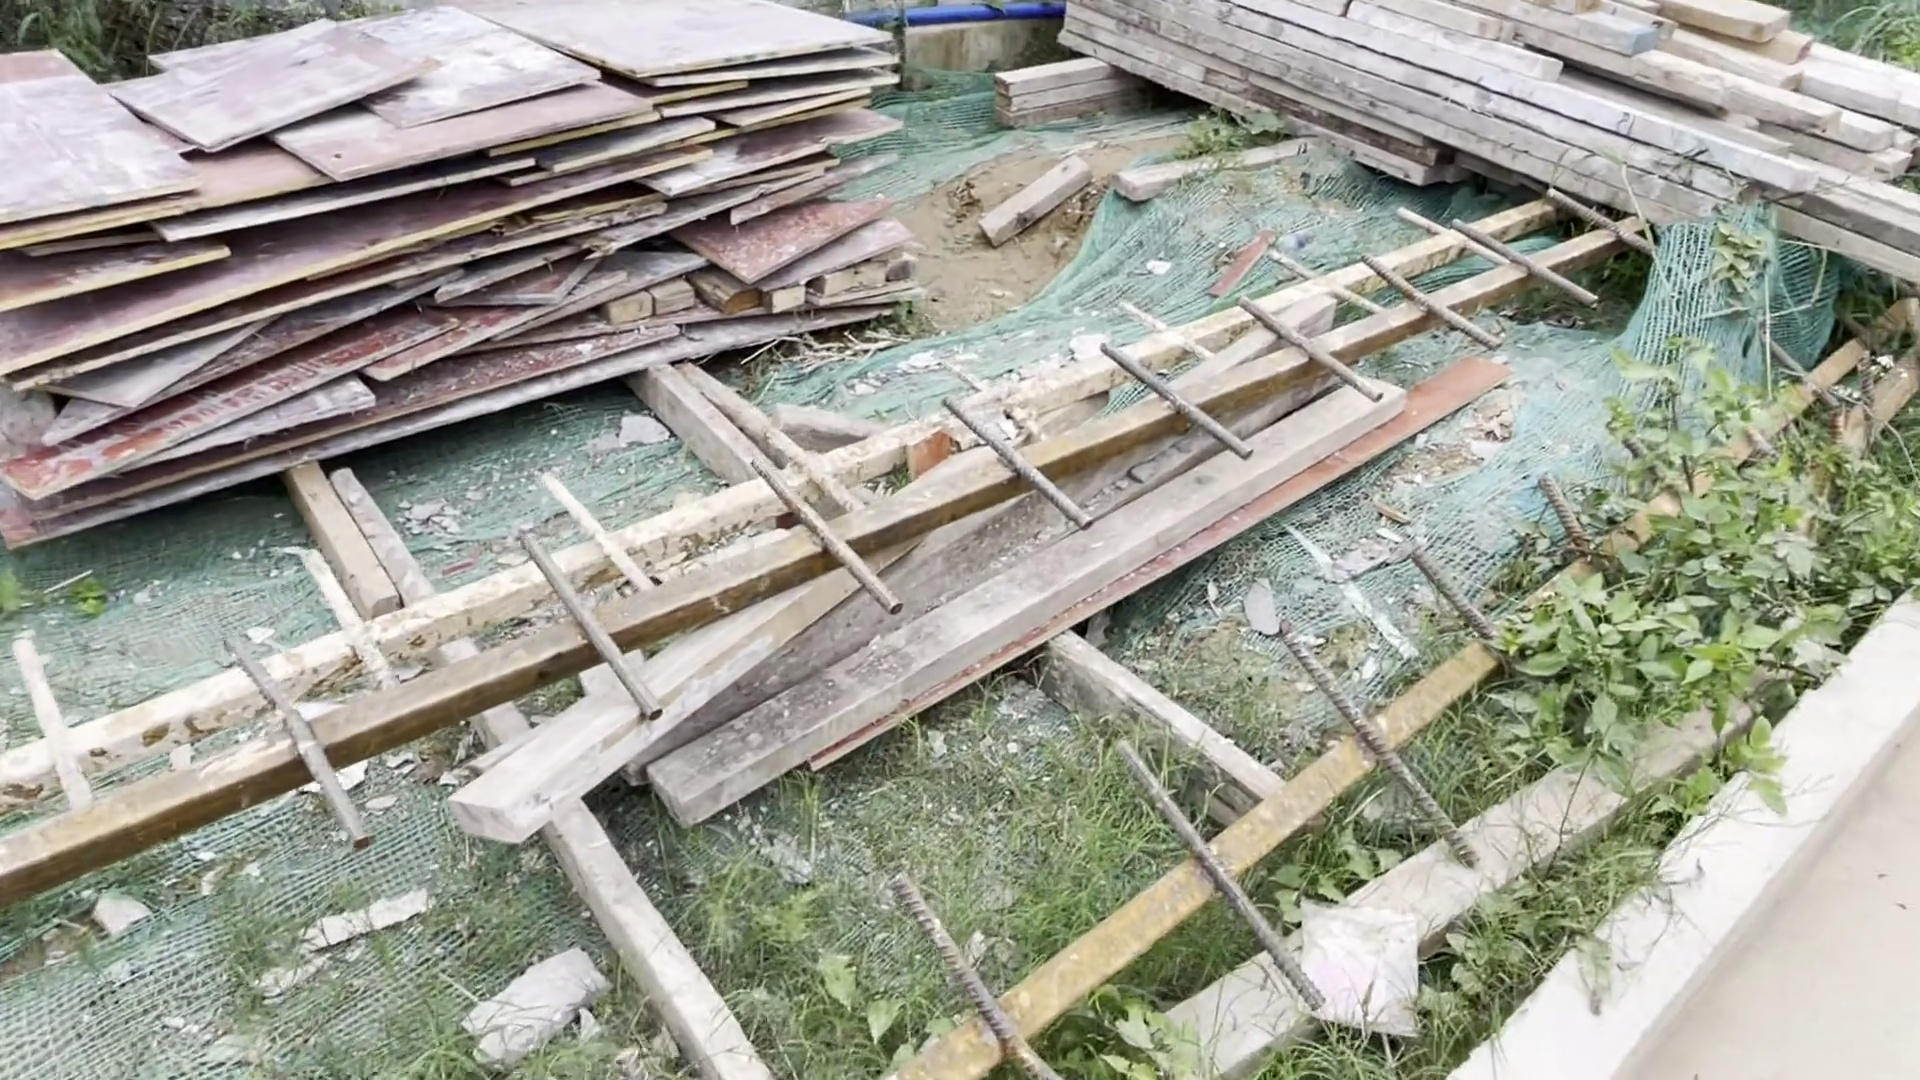board: (1, 22, 898, 473)
